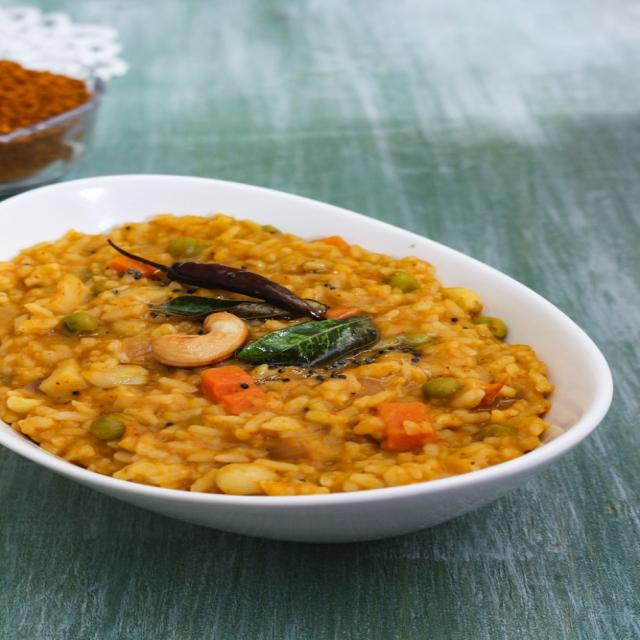bisibele bath: (2, 158, 631, 550)
